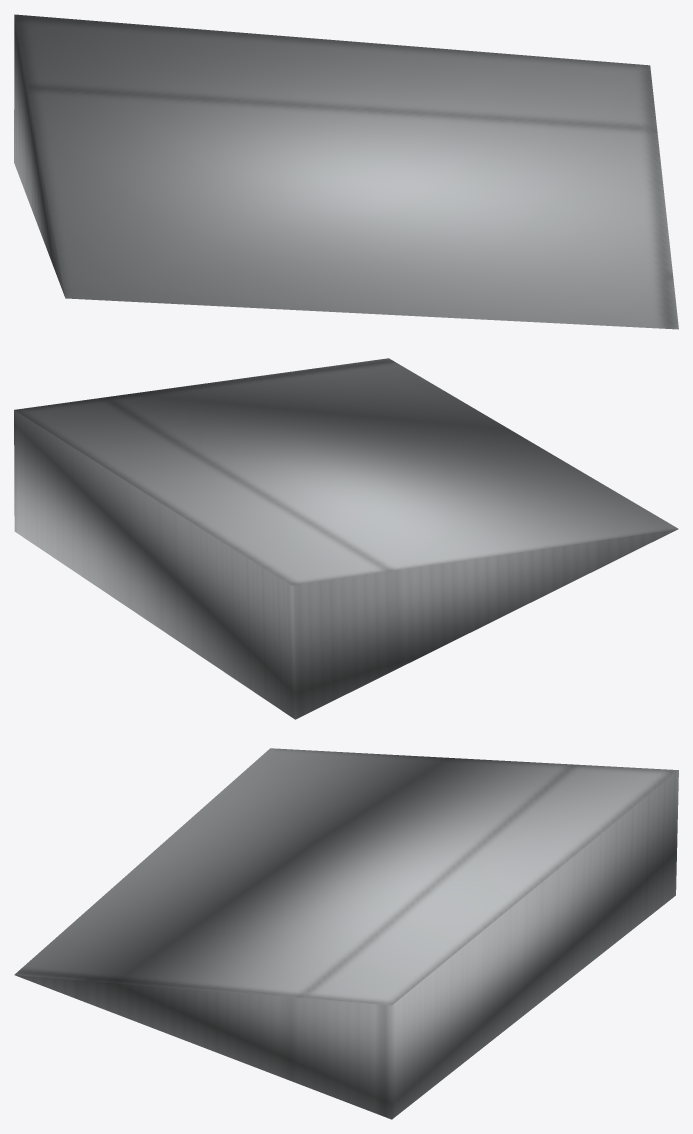
The model's file is right_aileron.glb.
3 renders of one model, top to bottom at view 1: azimuth 30°, elevation 25°; view 2: azimuth 150°, elevation 25°; view 3: azimuth 270°, elevation 25°, orthographic. The views are drawn at different scales.
Visible parts, largest first — view 1: RWingAileron; view 2: RWingAileron; view 3: RWingAileron.
Part boxes in pixels (x1,y1,x2,y2): RWingAileron: [14, 14, 678, 329]; RWingAileron: [14, 358, 678, 719]; RWingAileron: [14, 748, 678, 1119].
Bounding box in the file's own units: 3.15 × 0.8086 × 3.2.
1 material, 1 textured.
